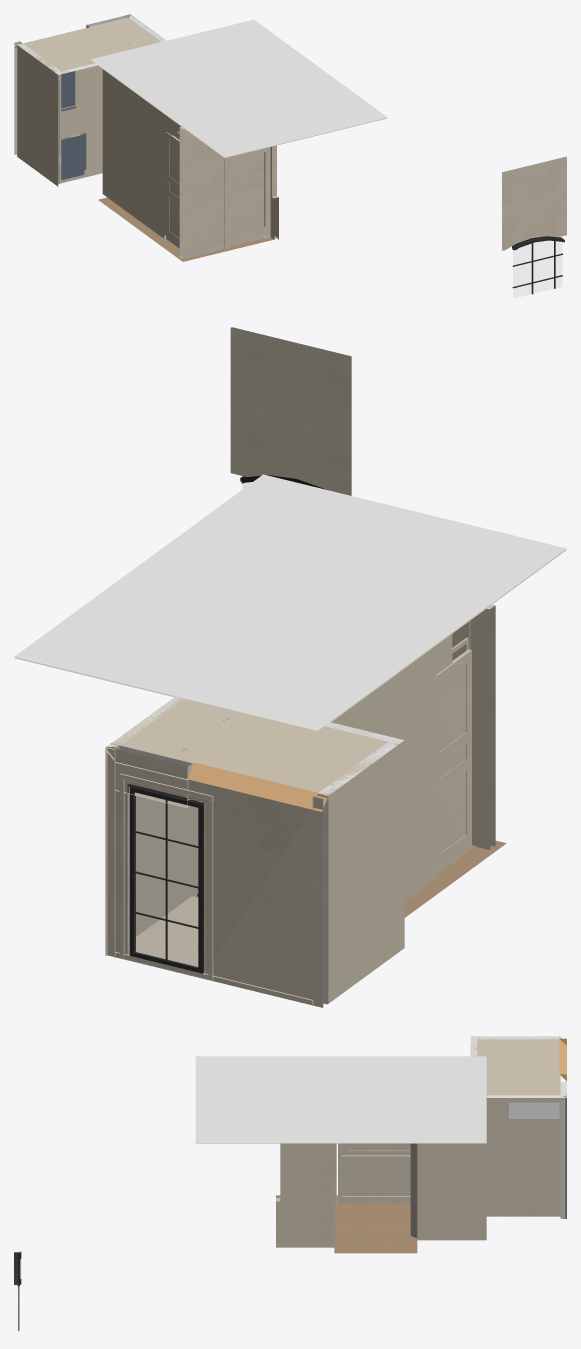
The model's file is laundry-6741e893a5af.glb.
The picture shows the model from 3 angles, top to bottom: view 1: azimuth 30°, elevation 25°; view 2: azimuth 150°, elevation 25°; view 3: azimuth 270°, elevation 25°; orthographic projection. The views are drawn at different scales.
Parts seen in each view (by area): view 1: laundry-look-9d91b47435c6fb33, laundry-look-64efeecf845bccca, laundry-look-eb02897c2e79e2b1, laundry-look-34525a54e63b733b, laundry-4fe5579be934d30a, laundry-9d91b47435c6fb33, laundry-8d8280a2b3ef8b4c, laundry-look-dcc0092055abeaa8, laundry-look-8d5f500af8e4c699, laundry-look-b50904fb6ee0544e, laundry-look-2575515a05775d9e, laundry-3d7dc14daaac73cc (+3 smaller); view 2: laundry-look-9d91b47435c6fb33, laundry-bd62734a7bc60eb7, laundry-look-34525a54e63b733b, laundry-4fe5579be934d30a, laundry-ca9c0b57f88e5741, laundry-9d91b47435c6fb33, laundry-09f90213aa0a4493, laundry-look-64efeecf845bccca, laundry-7f59123d155b94ce, laundry-look-b50904fb6ee0544e, laundry-look-eb02897c2e79e2b1, laundry-9373e00609a5f856 (+5 smaller); view 3: laundry-look-9d91b47435c6fb33, laundry-7f59123d155b94ce, laundry-look-7f59123d155b94ce, laundry-look-746250f96522f643, laundry-9d91b47435c6fb33, laundry-look-2575515a05775d9e, laundry-look-64efeecf845bccca, laundry-6cbc44f63f815149, laundry-9a6873bb27e0e1d8, laundry-look-1a48be0d0ff2f96f.
Boxes of the visible parts, x1,y1,x2,y2 form: laundry-look-9d91b47435c6fb33: (91,19,387,158); laundry-look-64efeecf845bccca: (102,69,177,238); laundry-look-eb02897c2e79e2b1: (179,126,270,258); laundry-look-34525a54e63b733b: (502,156,566,250); laundry-4fe5579be934d30a: (17,43,60,184); laundry-9d91b47435c6fb33: (19,16,164,74); laundry-8d8280a2b3ef8b4c: (55,63,102,186); laundry-look-dcc0092055abeaa8: (229,148,264,246); laundry-look-8d5f500af8e4c699: (512,236,564,298); laundry-look-b50904fb6ee0544e: (166,132,179,248); laundry-look-2575515a05775d9e: (98,197,278,261); laundry-3d7dc14daaac73cc: (61,134,86,180); laundry-look-9d91b47435c6fb33: (14,474,566,730); laundry-bd62734a7bc60eb7: (106,747,322,1007); laundry-look-34525a54e63b733b: (230,327,351,495); laundry-4fe5579be934d30a: (317,742,398,1003); laundry-ca9c0b57f88e5741: (107,747,323,1007); laundry-9d91b47435c6fb33: (111,696,404,795); laundry-09f90213aa0a4493: (127,784,204,973); laundry-look-64efeecf845bccca: (332,634,452,900); laundry-7f59123d155b94ce: (105,696,197,955); laundry-look-b50904fb6ee0544e: (436,649,471,874); laundry-look-eb02897c2e79e2b1: (452,604,495,849); laundry-9373e00609a5f856: (119,773,213,980); laundry-look-9d91b47435c6fb33: (195,1056,486,1143); laundry-7f59123d155b94ce: (486,1095,566,1218); laundry-look-7f59123d155b94ce: (410,1143,486,1240); laundry-look-746250f96522f643: (276,1143,335,1245); laundry-9d91b47435c6fb33: (470,1036,560,1095); laundry-look-2575515a05775d9e: (276,1195,417,1253); laundry-look-64efeecf845bccca: (340,1143,410,1202); laundry-6cbc44f63f815149: (509,1082,566,1118); laundry-9a6873bb27e0e1d8: (560,1098,565,1218); laundry-look-1a48be0d0ff2f96f: (341,1196,410,1203).
Size of the model in its own units: 7.03 by 2.95 by 10.33.
30 materials, 4 textured.
